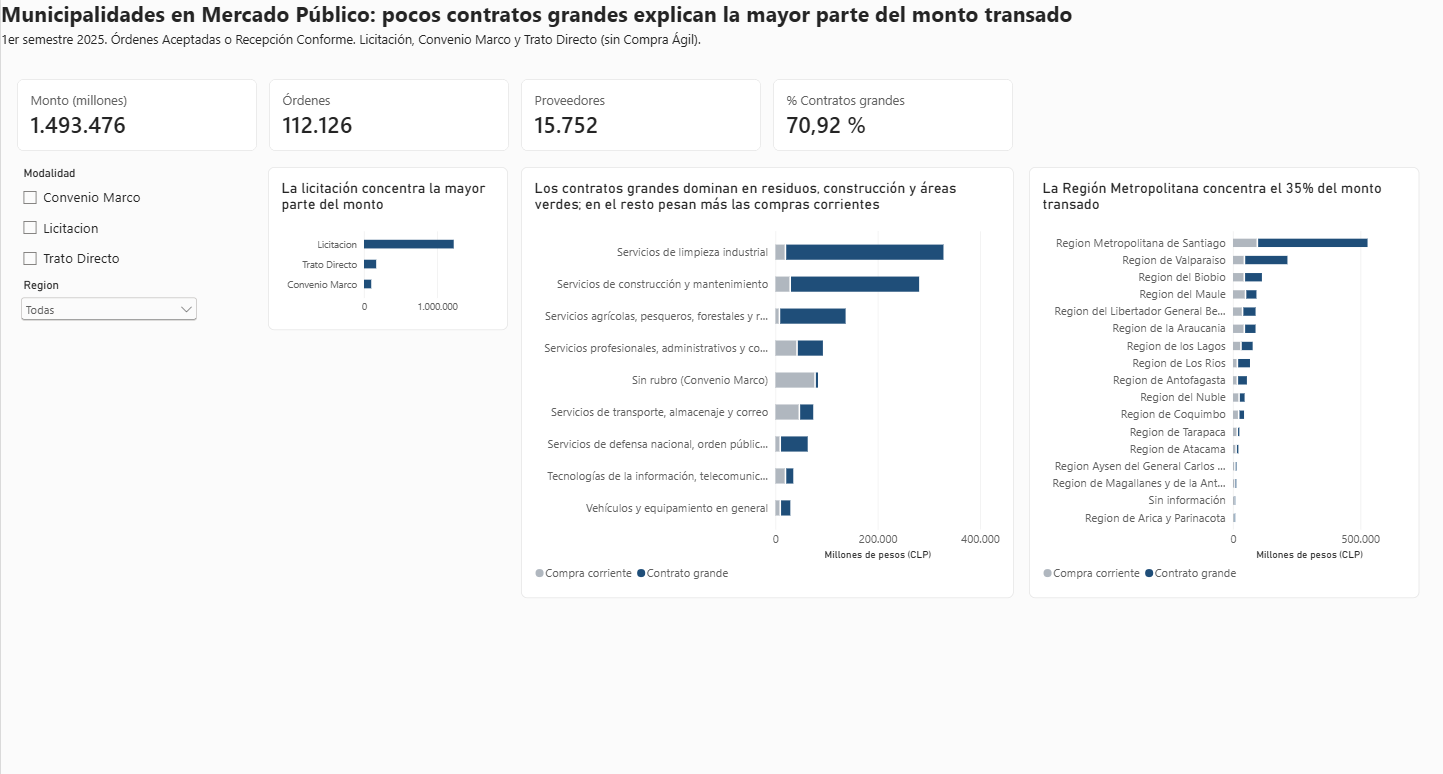

The page's visual inventory and layout, read from the dashboard file:
{"tool":"powerbi","page":{"name":"Panorama","canvas":[1920,1080],"ordinal":0},"visuals":[{"type":"textbox","box":[0,0,1367.1,37.1],"z":0},{"type":"textbox","box":[0,38.6,918.6,27.1],"z":1},{"type":"cardVisual","fields":{"Data":["ordenes.Monto (millones)"]},"box":[20,100,300,90],"z":2},{"type":"cardVisual","fields":{"Data":["ordenes.Órdenes"]},"box":[335,100,300,90],"z":3},{"type":"cardVisual","fields":{"Data":["ordenes.Proveedores"]},"box":[650,100,300,90],"z":4},{"type":"cardVisual","fields":{"Data":["ordenes.% Contratos grandes"]},"box":[965,100,300,90],"z":5},{"type":"slicer","fields":{"Values":["ordenes.RegionUnidadCompra"]},"box":[20,350,230,64.3],"z":6},{"type":"slicer","fields":{"Values":["ordenes.Modalidad"]},"box":[20,210,240,140],"z":7},{"type":"clusteredBarChart","title":"La licitación concentra la mayor parte del monto","fields":{"Category":["ordenes.Modalidad"],"Y":["ordenes.Monto (millones)"]},"box":[334.3,210,300,204.3],"z":8},{"type":"barChart","title":"Los contratos grandes dominan en residuos, construcción y áreas verdes; en el resto pesan más las compras corrientes","fields":{"Category":["ordenes.RubroN1"],"Series":["ordenes.Segmento"],"Y":["ordenes.Monto (millones)"]},"box":[650.4,210.1,615.8,538.7],"z":9},{"type":"barChart","title":"La Región Metropolitana concentra el 35% del monto transado","fields":{"Category":["ordenes.RegionUnidadCompra"],"Series":["ordenes.Segmento"],"Y":["ordenes.Monto (millones)"]},"box":[1284.8,210.1,488.1,538.7],"z":10},{"type":"textbox","box":[0,1033.4,853.9,30.6],"z":11}]}

Visuals, with their boxes on the page's 1920x1080 design canvas (x1, y1, x2, y2). These are canvas units, not pixel positions in the 1443x774 screenshot, which may show the page scaled, cropped or inside an application window:
textbox: 0,0,1367,37
textbox: 0,39,919,66
cardVisual - ordenes.Monto (millones): 20,100,320,190
cardVisual - ordenes.Órdenes: 335,100,635,190
cardVisual - ordenes.Proveedores: 650,100,950,190
cardVisual - ordenes.% Contratos grandes: 965,100,1265,190
slicer - ordenes.RegionUnidadCompra: 20,350,250,414
slicer - ordenes.Modalidad: 20,210,260,350
"La licitación concentra la mayor parte del monto" clusteredBarChart: 334,210,634,414
"Los contratos grandes dominan en residuos, construcción y áreas verdes; en el resto pesan más las compras corrientes" barChart: 650,210,1266,749
"La Región Metropolitana concentra el 35% del monto transado" barChart: 1285,210,1773,749
textbox: 0,1033,854,1064
